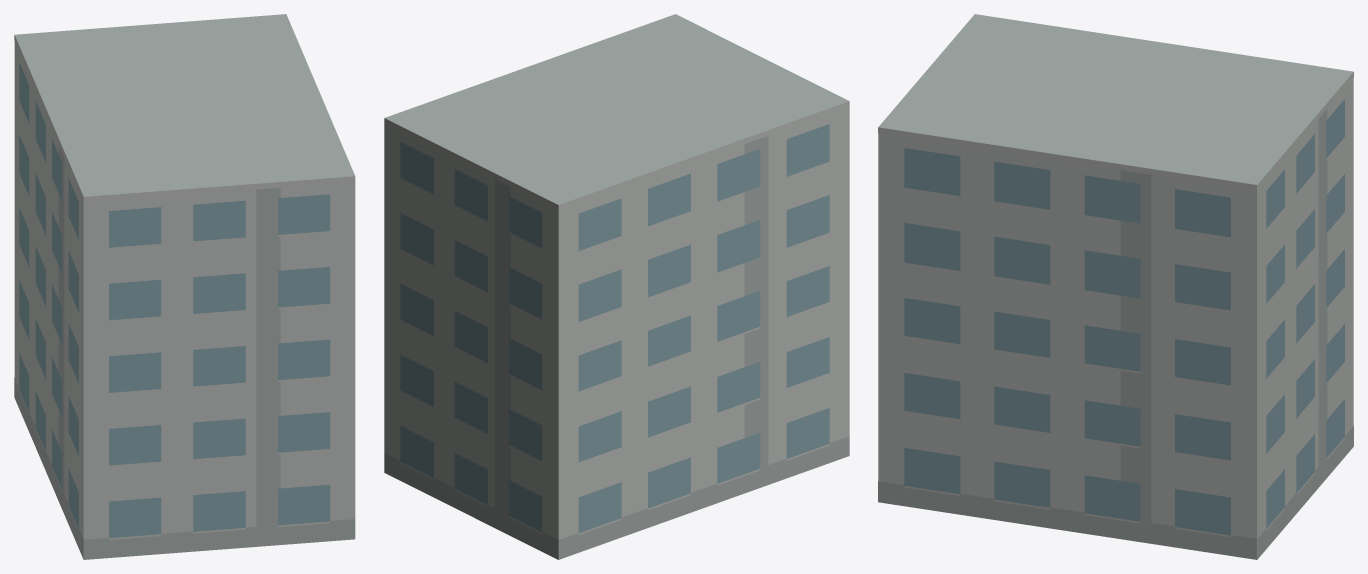
File: residential-ca5f6946-1930-490d-b32b-bba8fa288012.glb
3 views of the same model, side by side, from view 1: azimuth 30°, elevation 25°; view 2: azimuth 150°, elevation 25°; view 3: azimuth 270°, elevation 25° (orthographic). The views are drawn at different scales.
Visible parts, largest first — view 1: residential-ca5f6946-1930-490d-b32b-bba8fa288012.tmp; view 2: residential-ca5f6946-1930-490d-b32b-bba8fa288012.tmp; view 3: residential-ca5f6946-1930-490d-b32b-bba8fa288012.tmp.
Part boxes in pixels (x1,y1,x2,y2): residential-ca5f6946-1930-490d-b32b-bba8fa288012.tmp: (14,14,355,559); residential-ca5f6946-1930-490d-b32b-bba8fa288012.tmp: (384,14,849,559); residential-ca5f6946-1930-490d-b32b-bba8fa288012.tmp: (878,14,1353,559).
Bounding box in the file's own units: 14.93 × 15.25 × 17.54.
